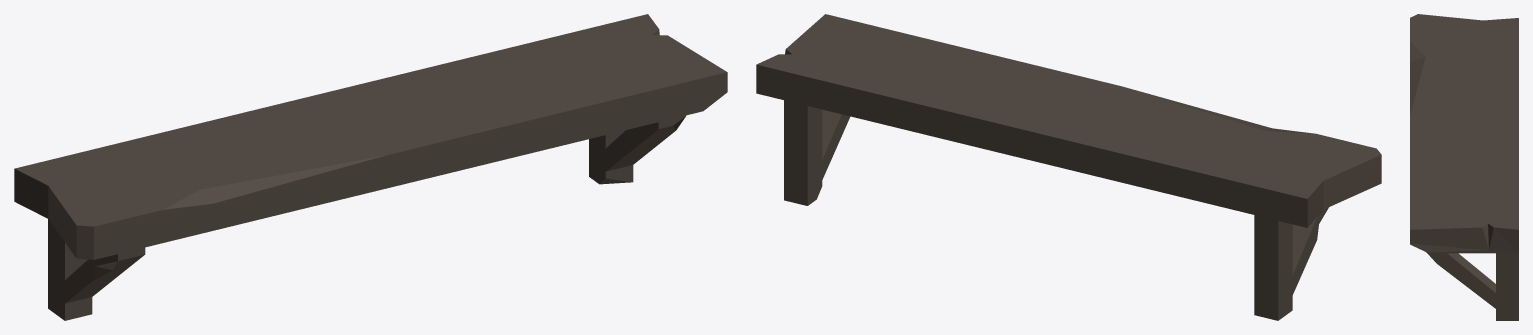
Rendered from Shelf_02.fbx.
The picture shows the model from 3 angles, left to right: view 1: azimuth 30°, elevation 25°; view 2: azimuth 150°, elevation 25°; view 3: azimuth 270°, elevation 25°; orthographic projection. The views are drawn at different scales.
Parts seen in each view (by area): view 1: Shelf_02; view 2: Shelf_02; view 3: Shelf_02.
Boxes of the visible parts, bbox=[...] form: Shelf_02: bbox=[14, 14, 727, 320]; Shelf_02: bbox=[756, 14, 1381, 320]; Shelf_02: bbox=[1410, 14, 1518, 320].
Size of the model in its own units: 407 by 89.49 by 86.9.
